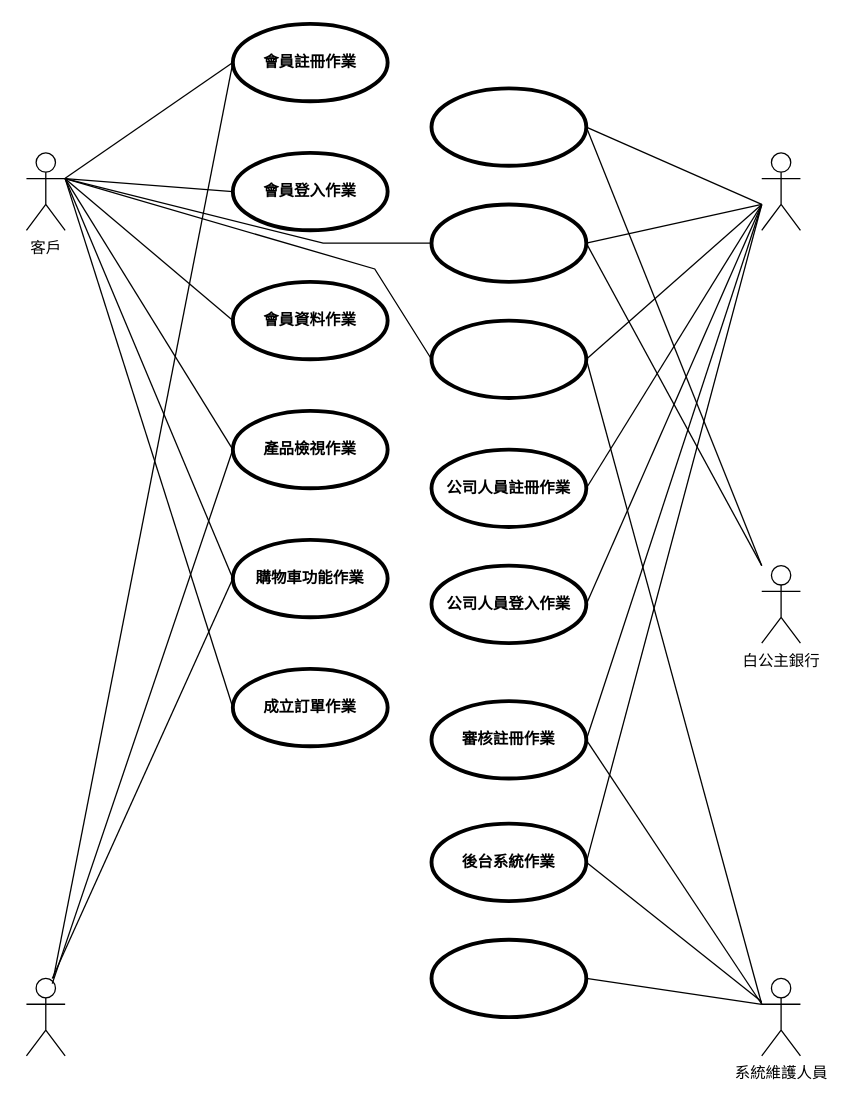
Image size: 850x1106. Some labels were removed from this diagram. The shapes that lost their labels are listed below. From the top down, each one's centre as x and y in pixels, then its label:
the point at 508,126: 會員檢視作業
the point at 780,191: 公司人員
the point at 508,242: 金流作業
the point at 508,358: 訂單紀錄作業
the point at 508,977: 維護系統作業
the point at 45,1016: 瀏覽者
